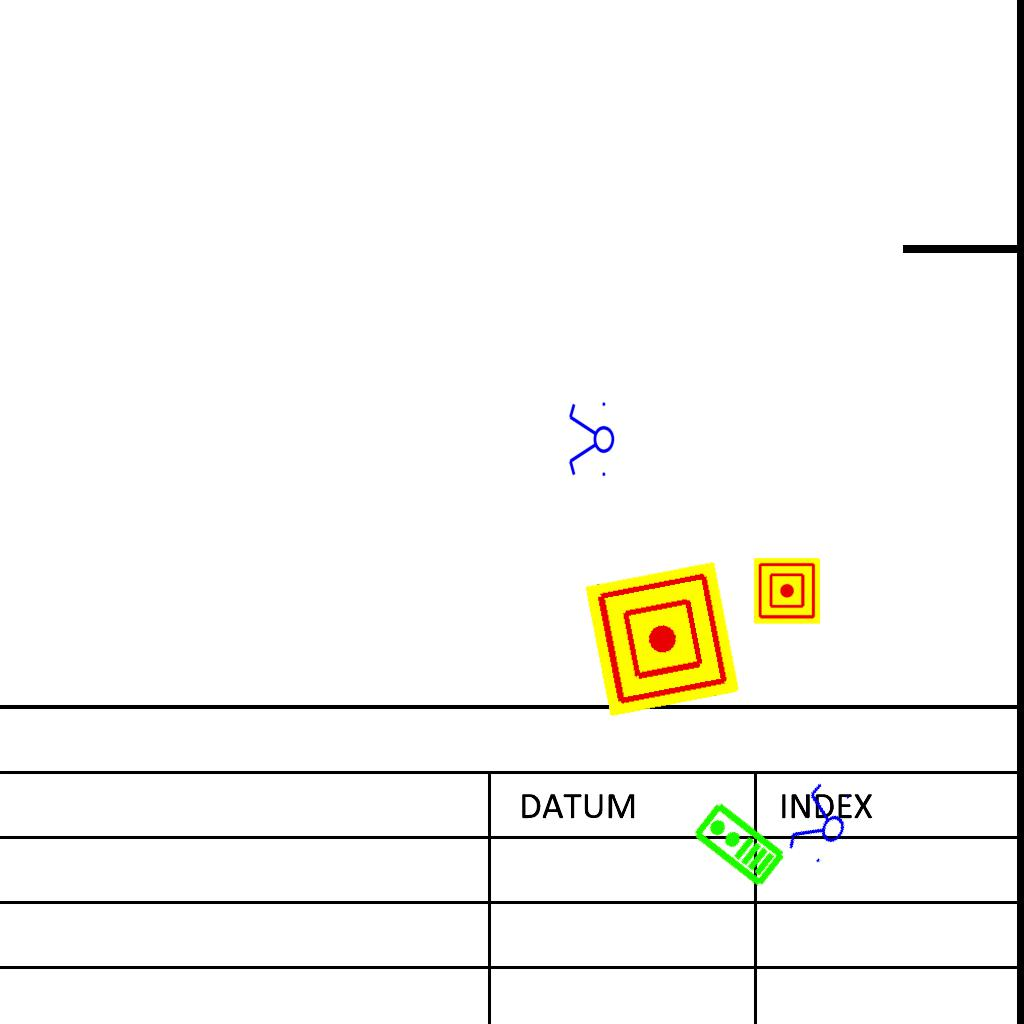Gegensprechanlage_mit_Video: (689, 799, 788, 891)
NAM-Nichtautomatischer_Melder: (584, 561, 740, 717), (754, 558, 820, 624)
Serienschalter: (781, 775, 861, 873), (567, 398, 615, 482)
